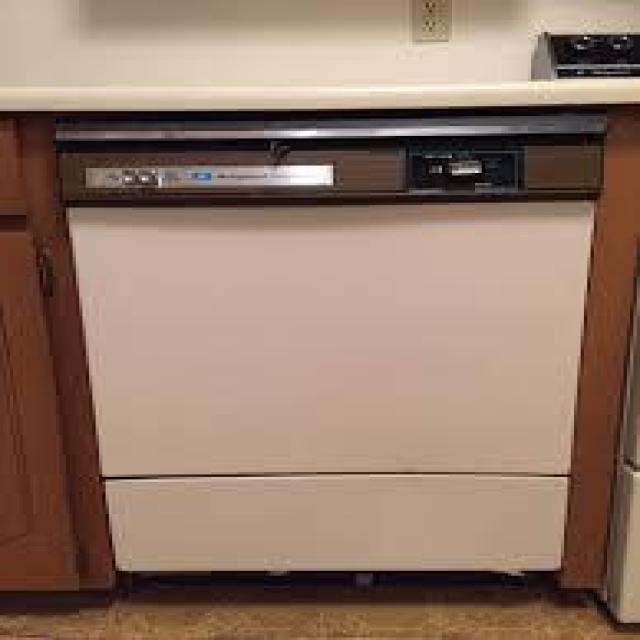dishwasher: (49, 114, 610, 580)
